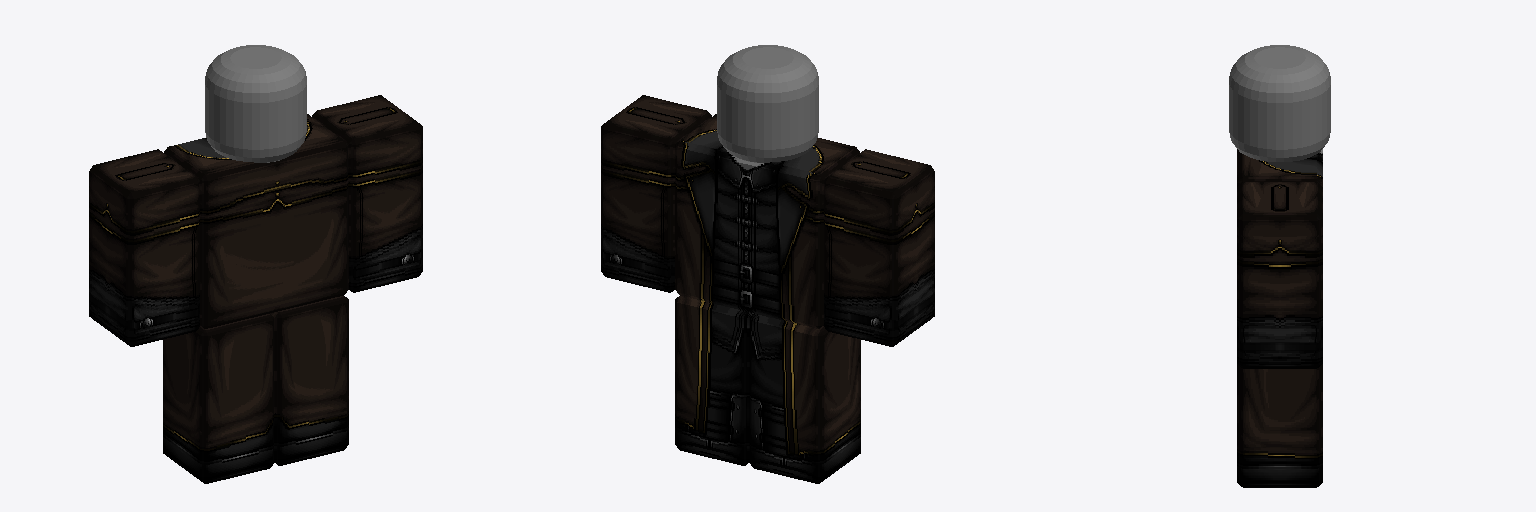
3 views of the same model, side by side, from view 1: azimuth 30°, elevation 25°; view 2: azimuth 150°, elevation 25°; view 3: azimuth 270°, elevation 25° (orthographic).
Parts seen in each view (by area): view 1: Pyro5, Pyro4, Pyro2, Pyro3, Pyro1, Pyro6; view 2: Pyro5, Pyro4, Pyro2, Pyro3, Pyro1, Pyro6; view 3: Pyro3, Pyro6, Pyro1, Pyro5.
Part boxes in pixels (x1,y1,x2,y2): Pyro5: (164, 114, 348, 328); Pyro4: (89, 149, 199, 346); Pyro2: (163, 314, 274, 483); Pyro3: (312, 95, 422, 292); Pyro1: (270, 296, 348, 465); Pyro6: (205, 45, 306, 162); Pyro5: (675, 114, 859, 328); Pyro4: (824, 149, 934, 346); Pyro2: (749, 314, 860, 483); Pyro3: (601, 95, 711, 292); Pyro1: (675, 296, 753, 465); Pyro6: (717, 45, 818, 162); Pyro3: (1237, 182, 1322, 368); Pyro6: (1229, 45, 1330, 161); Pyro1: (1237, 364, 1322, 487); Pyro5: (1237, 149, 1322, 186).
Size of the model in its own units: 4 by 5.1 by 1.2.
Materials: 1 (1 with a texture image).